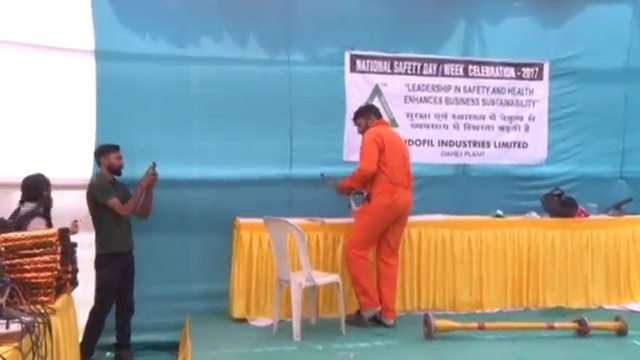helmet_off: (20, 173, 53, 208), (352, 104, 383, 136), (96, 144, 125, 178)
person: (80, 145, 158, 360), (342, 104, 417, 324), (6, 173, 77, 246)
